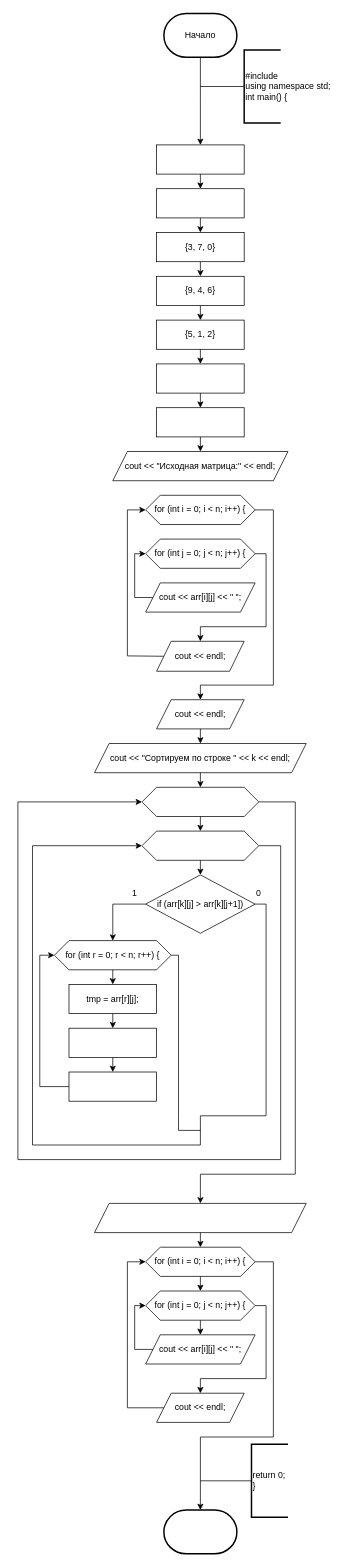
Image size: 344x1567. Some labels were removed from this diagram. The centre of each missing label's shape, as x and y in pixels:
arr[r][j+1] = tmp;: pixel 112 1086
arr[r][j] = arr[r][j+1];: pixel 112 1042
const int n = 3;: pixel 200 159
cout << "Матрица после сортировки:" << endl;: pixel 200 1218
for (int i = 0; i < n-1; i++) {: pixel 200 802
for (int j = 0; j < n-1-i; j++) {: pixel 200 845
int arr[n][n] = {: pixel 200 203
int k = 1;: pixel 200 378
int tmp;: pixel 200 422
Конец: pixel 200 1531
